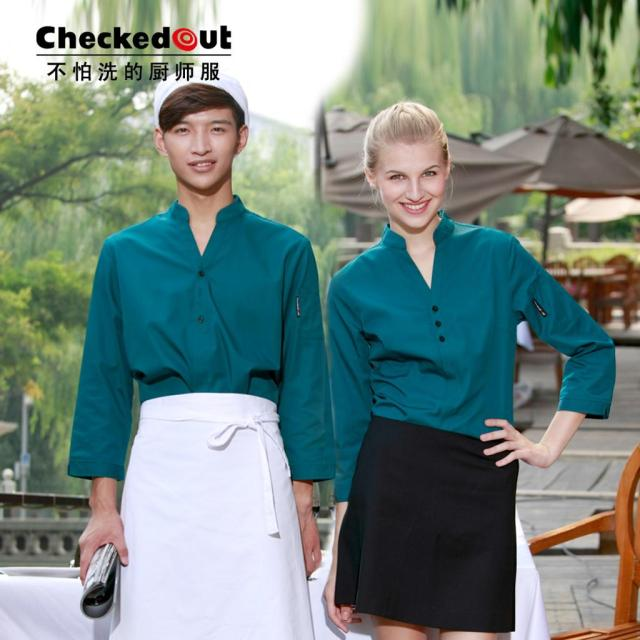Face: (146, 89, 254, 199), (371, 128, 455, 231)
